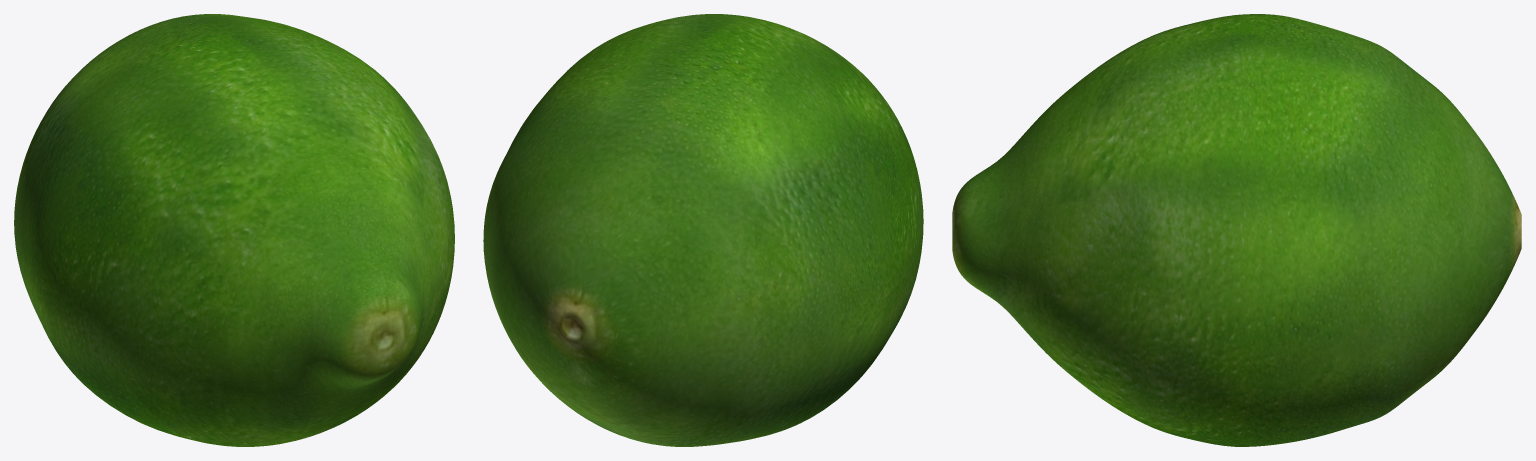
File: 10187_Lime.obj
3 views of the same model, side by side, from view 1: azimuth 30°, elevation 25°; view 2: azimuth 150°, elevation 25°; view 3: azimuth 270°, elevation 25° (orthographic).
Visible parts, largest first — view 1: Lime; view 2: Lime; view 3: Lime.
Boxes of the visible parts, bbox=[...] form: Lime: bbox=[14, 14, 454, 446]; Lime: bbox=[483, 14, 923, 446]; Lime: bbox=[952, 14, 1521, 446].
Size of the model in its own units: 4.01 by 4 by 5.26.
Materials: 1 (1 with a texture image).
